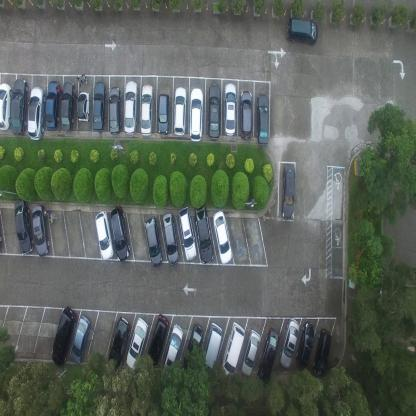car: (50, 306, 75, 369), (257, 326, 280, 387), (145, 315, 168, 371), (107, 317, 130, 372), (221, 321, 244, 376), (108, 205, 130, 262), (125, 318, 148, 372), (200, 322, 223, 376), (194, 202, 214, 264), (162, 324, 184, 380), (13, 199, 34, 256), (181, 323, 204, 373), (177, 206, 197, 262), (94, 209, 115, 261), (240, 329, 262, 377), (213, 209, 232, 264), (279, 317, 299, 369), (69, 315, 89, 366), (162, 211, 180, 267), (27, 85, 45, 141), (144, 215, 163, 268), (11, 77, 28, 136), (312, 328, 332, 378), (295, 320, 315, 368), (284, 18, 318, 46), (32, 204, 50, 256), (281, 163, 296, 221), (189, 87, 203, 145), (60, 79, 75, 132), (207, 84, 221, 140), (223, 82, 237, 138), (45, 79, 60, 131), (124, 80, 138, 135), (92, 81, 107, 132), (140, 83, 154, 137), (239, 89, 253, 141), (256, 94, 269, 148), (0, 80, 13, 133), (173, 86, 186, 138), (108, 85, 121, 136), (156, 94, 170, 136), (76, 90, 90, 123)
